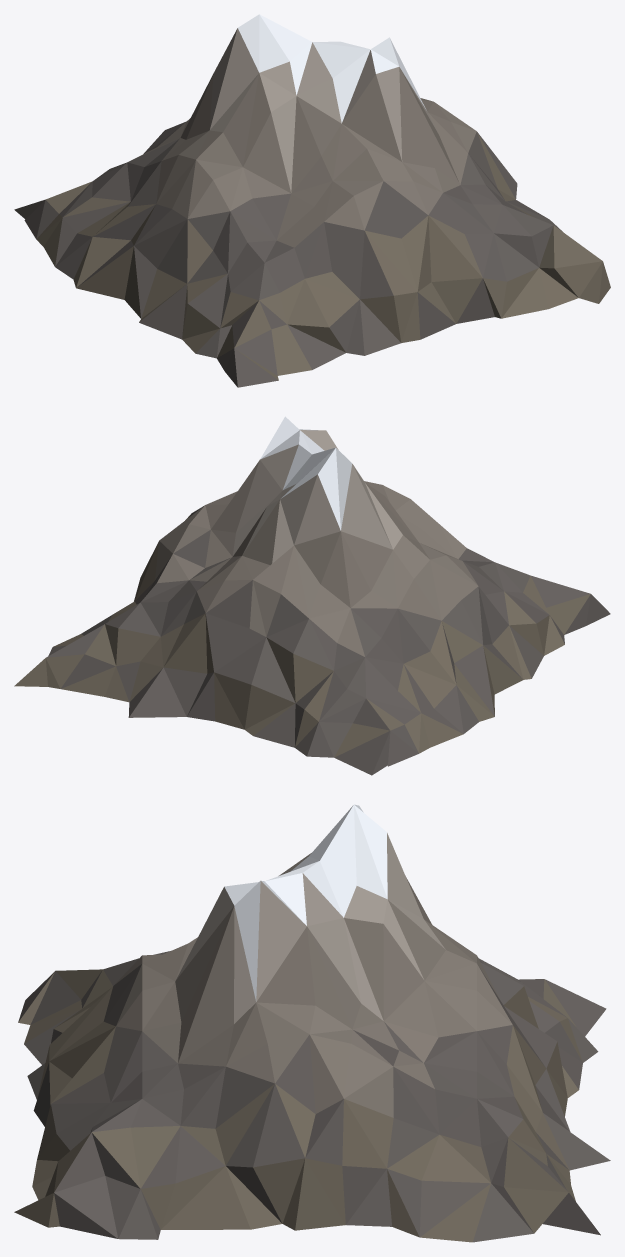
The model's file is mountain_b.obj.
3 views of the same model, one above another, from view 1: azimuth 30°, elevation 25°; view 2: azimuth 150°, elevation 25°; view 3: azimuth 270°, elevation 25° (orthographic). The views are drawn at different scales.
Bounding box in the file's own units: 7.18 × 3.8 × 7.13.
